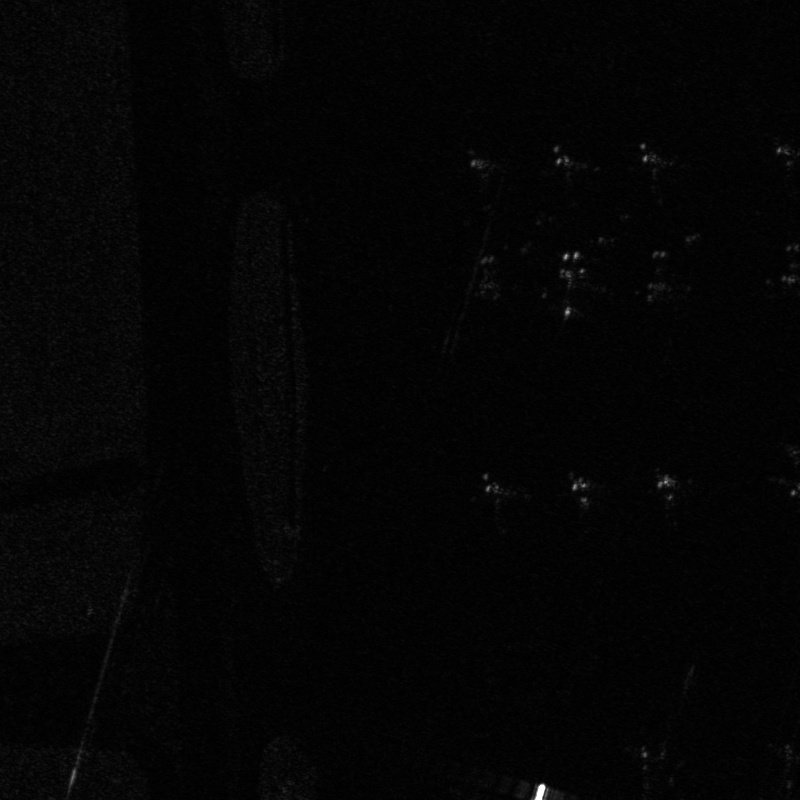A220: (551, 467, 613, 537)
A320/321: (640, 461, 698, 533)
ARJ21: (462, 464, 534, 544), (632, 245, 690, 308), (461, 252, 516, 305)
Boeing737: (534, 244, 606, 326)
other: (539, 142, 599, 213), (456, 145, 508, 221), (622, 140, 678, 210), (760, 132, 799, 196)
